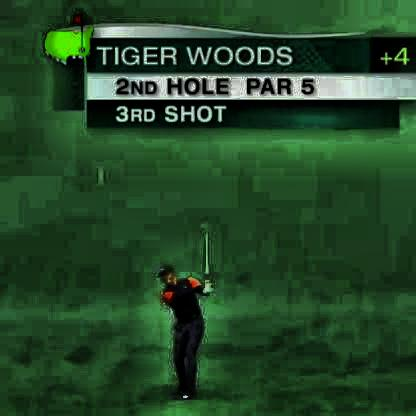golfball: (93, 164, 104, 177)
